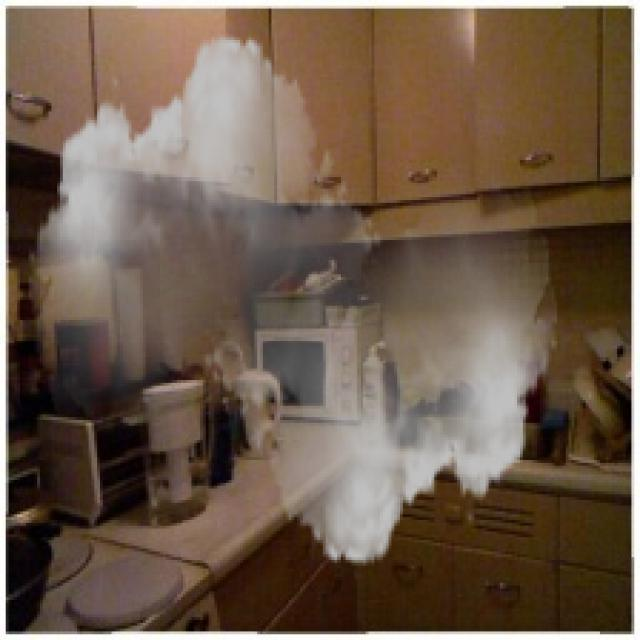Smoke: (29, 17, 558, 583)
